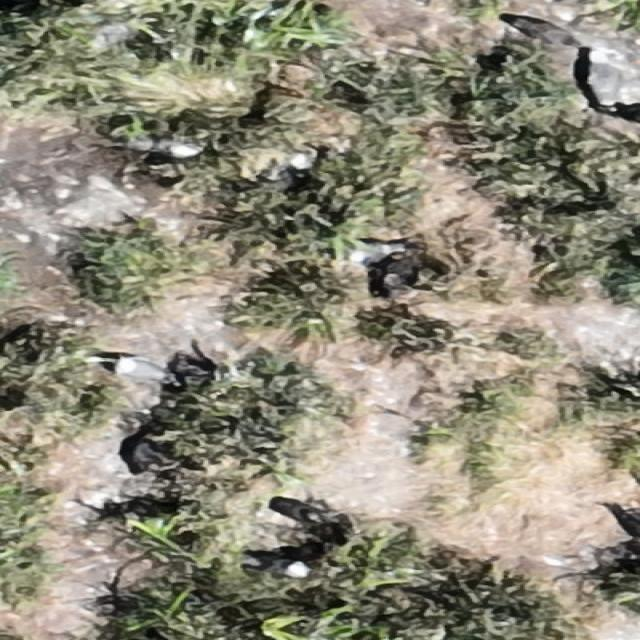umineko: (590, 46, 625, 114), (114, 356, 183, 389), (124, 137, 204, 158), (345, 242, 417, 262), (255, 551, 308, 578)
